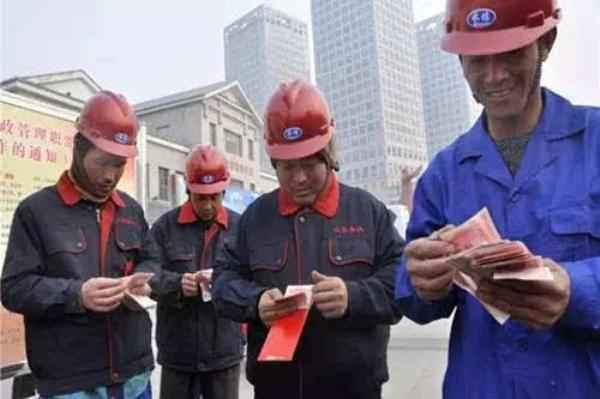helmet: (439, 1, 563, 58), (263, 79, 334, 162), (74, 92, 144, 159), (184, 145, 234, 195)
